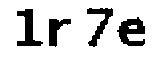1: (10, 6, 42, 50)
7: (82, 4, 114, 48)
e: (116, 17, 148, 49)
r: (46, 16, 73, 51)
